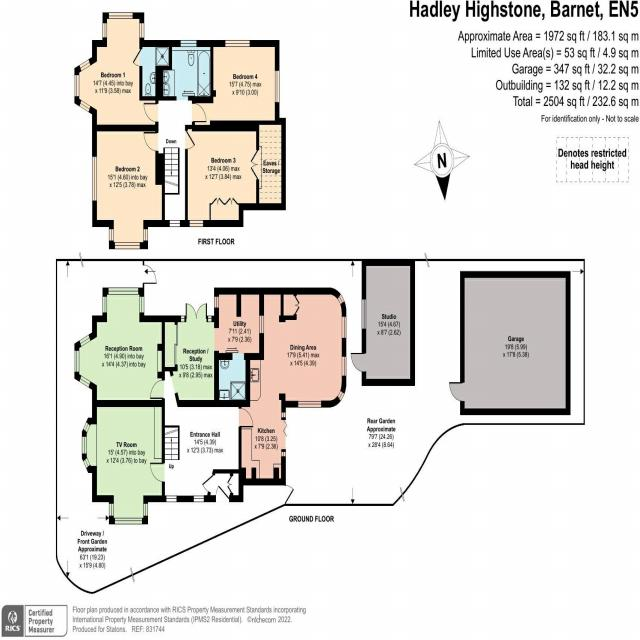DOOR: (350, 352, 366, 373), (143, 131, 159, 152), (143, 102, 159, 123), (192, 102, 207, 123), (150, 379, 165, 399), (238, 408, 253, 428), (150, 462, 165, 482), (201, 474, 215, 493), (215, 485, 230, 502), (185, 130, 195, 150), (132, 48, 142, 67)
DOUBLE DOOR: (185, 302, 208, 322)
ROOM: (238, 287, 347, 486), (185, 118, 286, 228), (74, 287, 165, 408), (82, 400, 165, 525), (74, 12, 159, 131), (92, 125, 165, 250), (192, 40, 280, 131)
SLIDING DOOR: (173, 324, 179, 366)
WINDOW: (108, 287, 139, 295), (92, 156, 97, 202), (114, 517, 142, 525), (114, 242, 140, 250), (225, 40, 250, 47), (108, 12, 133, 19), (298, 401, 322, 408), (79, 99, 91, 113), (79, 58, 91, 72), (275, 70, 280, 103), (361, 298, 366, 330), (79, 334, 91, 347), (79, 375, 91, 388), (74, 350, 80, 373), (180, 40, 197, 47), (342, 316, 347, 339), (74, 74, 79, 97), (342, 356, 347, 377), (189, 220, 204, 227), (337, 390, 345, 402), (337, 293, 345, 305), (83, 457, 91, 469), (259, 315, 264, 334), (82, 436, 87, 454), (193, 495, 204, 503), (166, 495, 177, 503), (102, 296, 107, 313), (139, 296, 144, 313), (83, 421, 90, 433), (139, 22, 144, 38), (169, 220, 180, 227), (102, 23, 107, 38), (109, 503, 114, 516), (143, 503, 148, 516), (143, 228, 148, 241), (214, 296, 219, 308), (109, 229, 114, 241), (281, 412, 286, 418), (281, 451, 286, 457), (208, 315, 212, 322), (181, 316, 185, 322)
